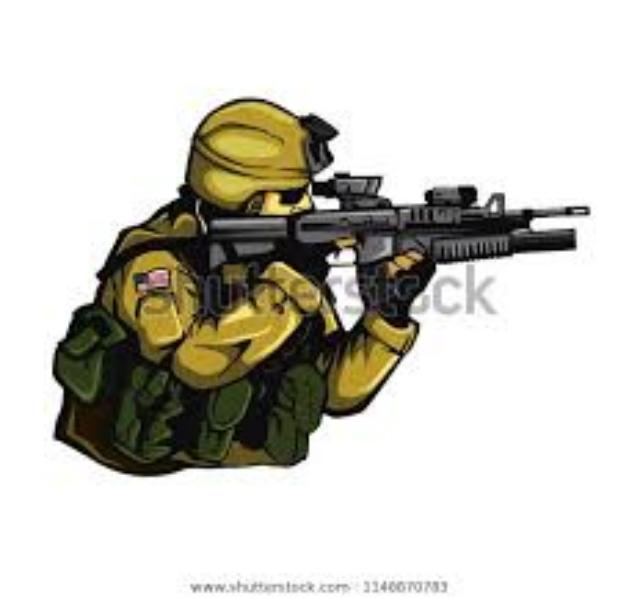other: (57, 105, 423, 453)
